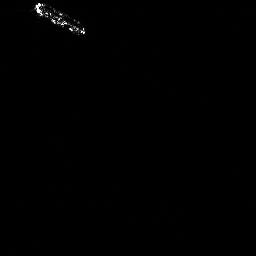ship: (30, 1, 89, 39)
